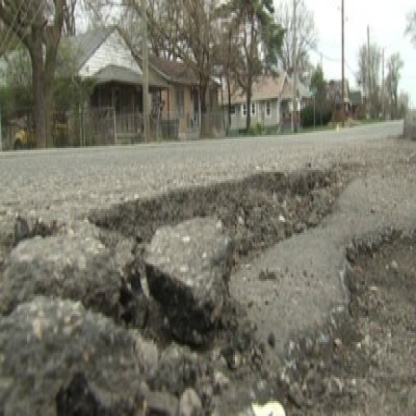pothole: (5, 169, 416, 411)
